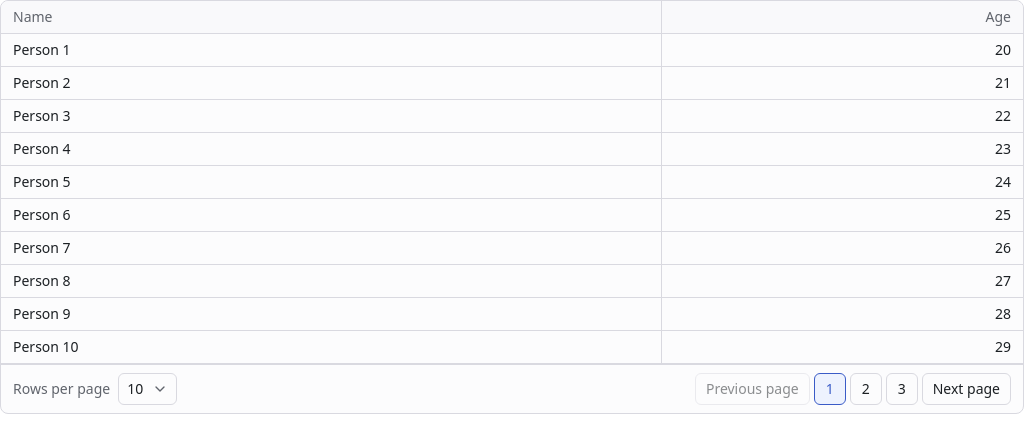
Scenario: Table pagination › fetches the requested page when a page control is used
Expected: the text "Person 1" is shown, [1,34,662,67]
Expected: the number of buttons "1" is 3, [814,373,846,405]; [850,373,882,405]; [886,373,918,405]
Step 1. Click the button "Next page" → [966, 389], box [922,373,1011,405]
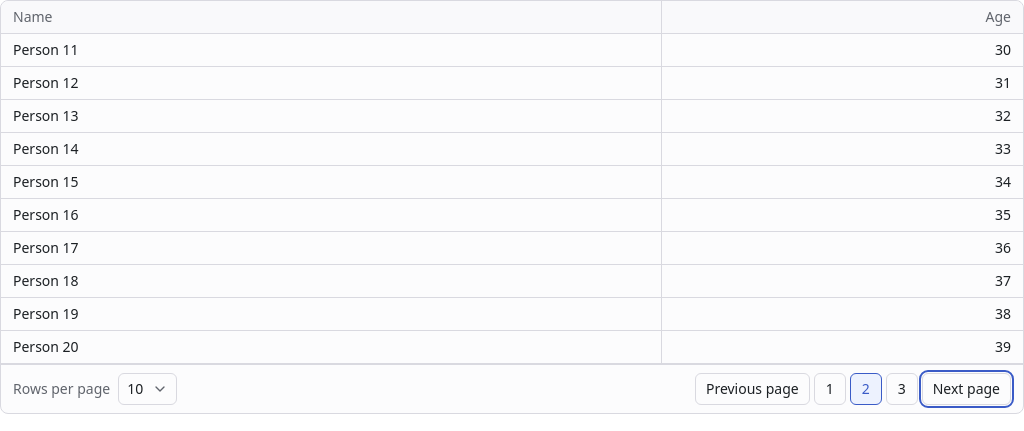
Expected: the text "Person 11" is shown, [1,34,662,67]
Step 2. Click the button named "Page 3" → [902, 389], box [886,373,918,405]
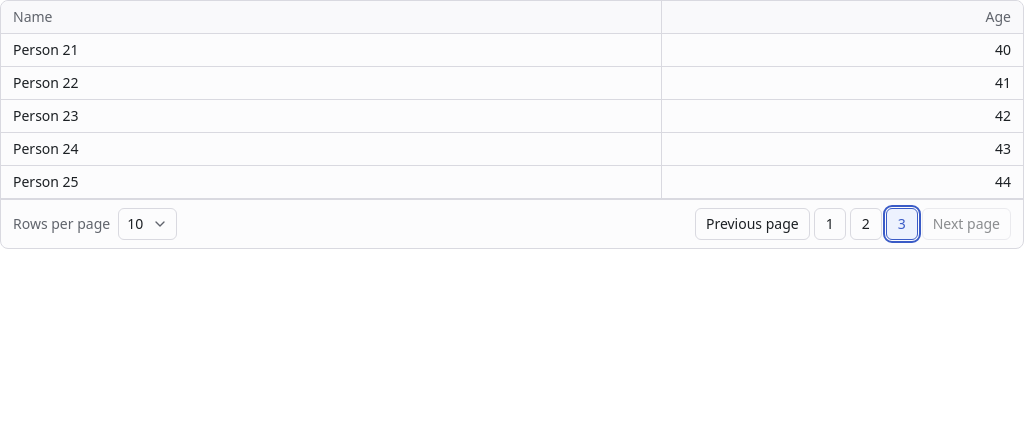
Expected: the text "Person 25" is shown, [1,166,662,199]
Step 3. Click the button "Previous page" → [752, 224], box [695,208,810,240]
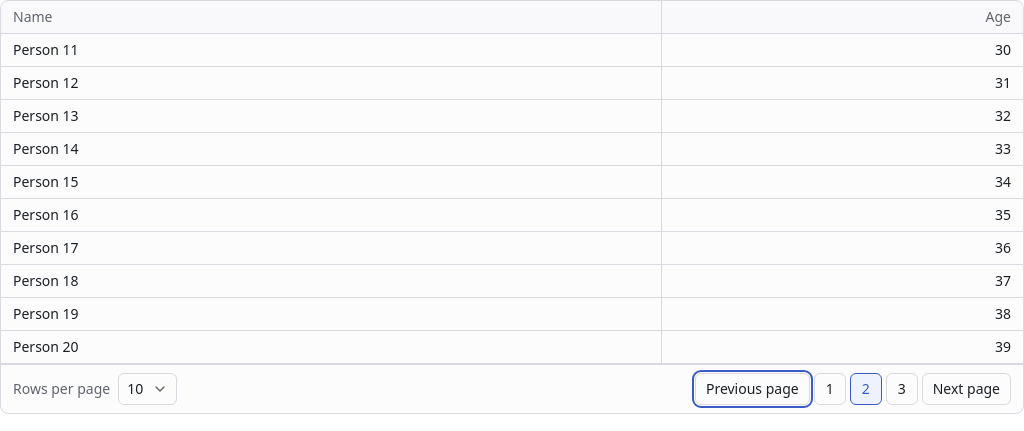
Expected: the text "Person 11" is shown, [1,34,662,67]
